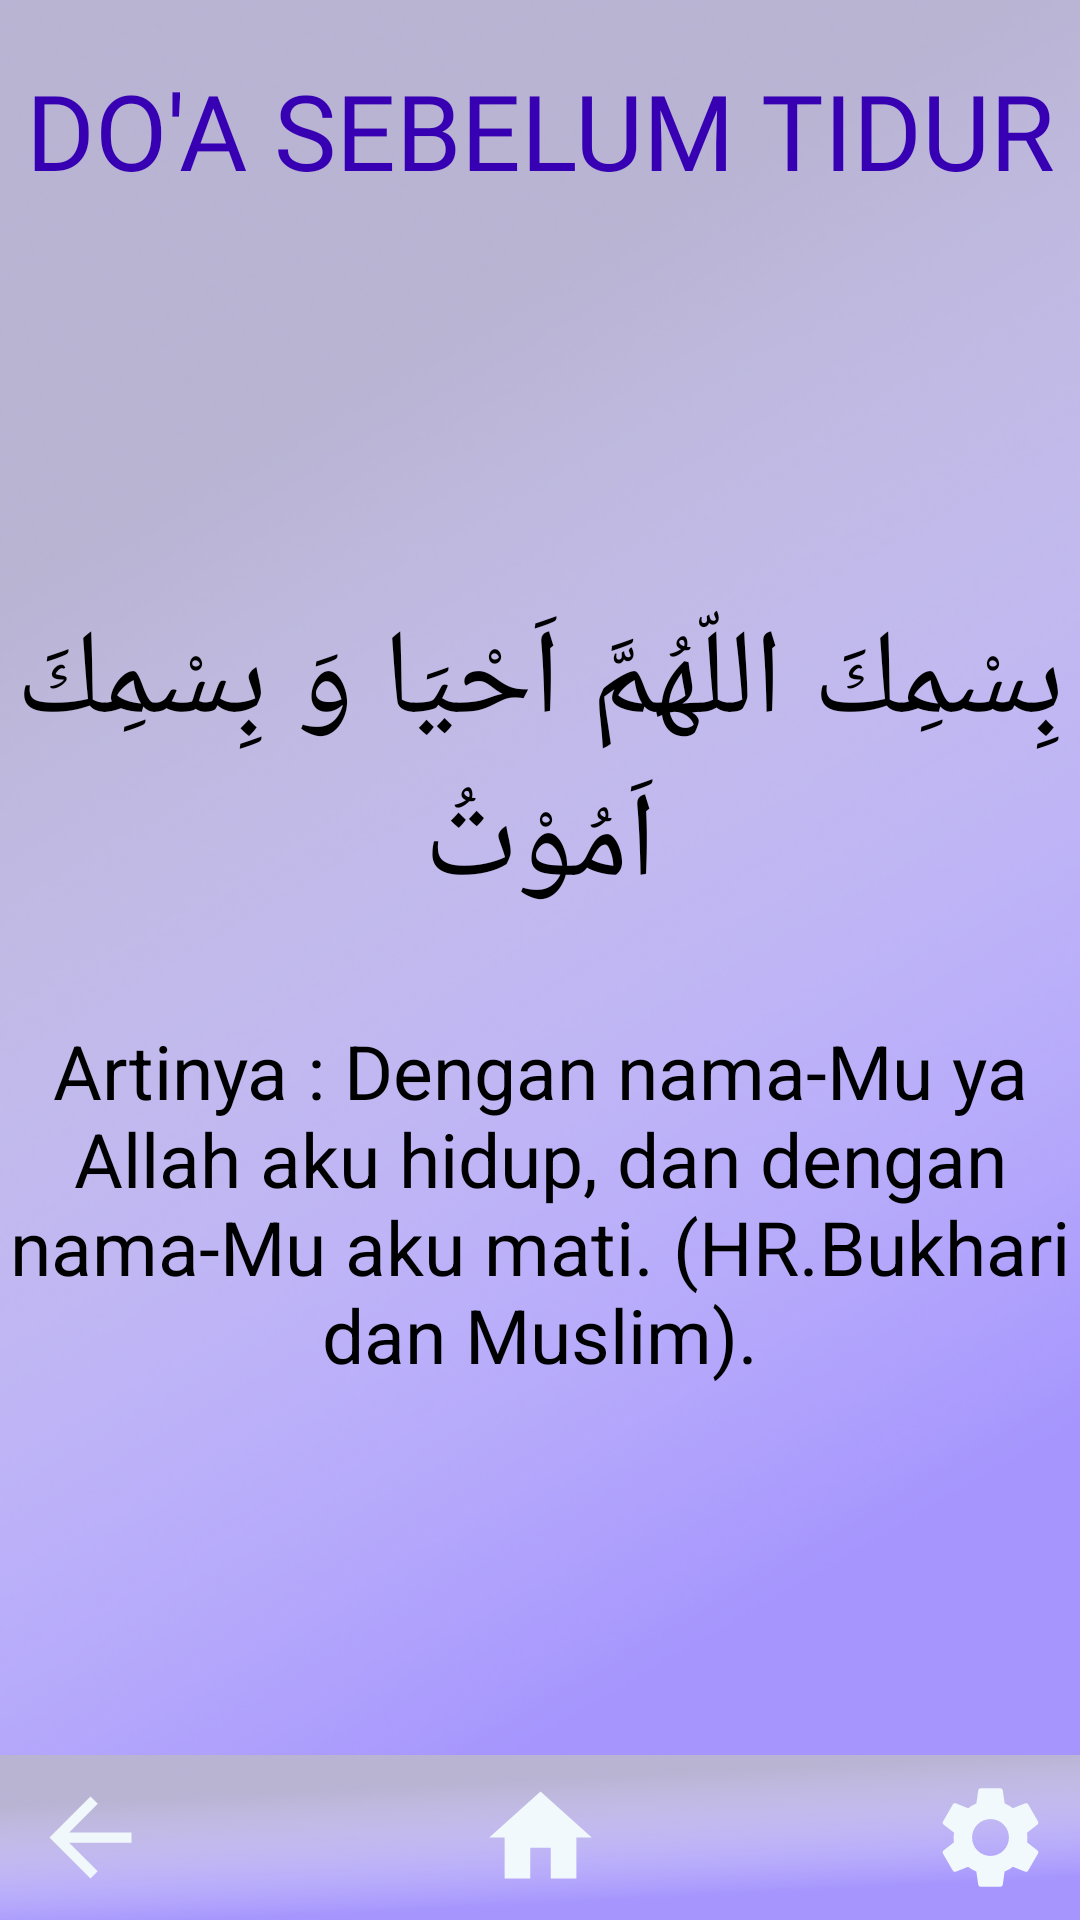

Icon click points for this 1080 × 1920 phone screenshot, format point (x, y):
arrow back: point (90, 1837)
home: point (540, 1837)
settings: point (990, 1837)
